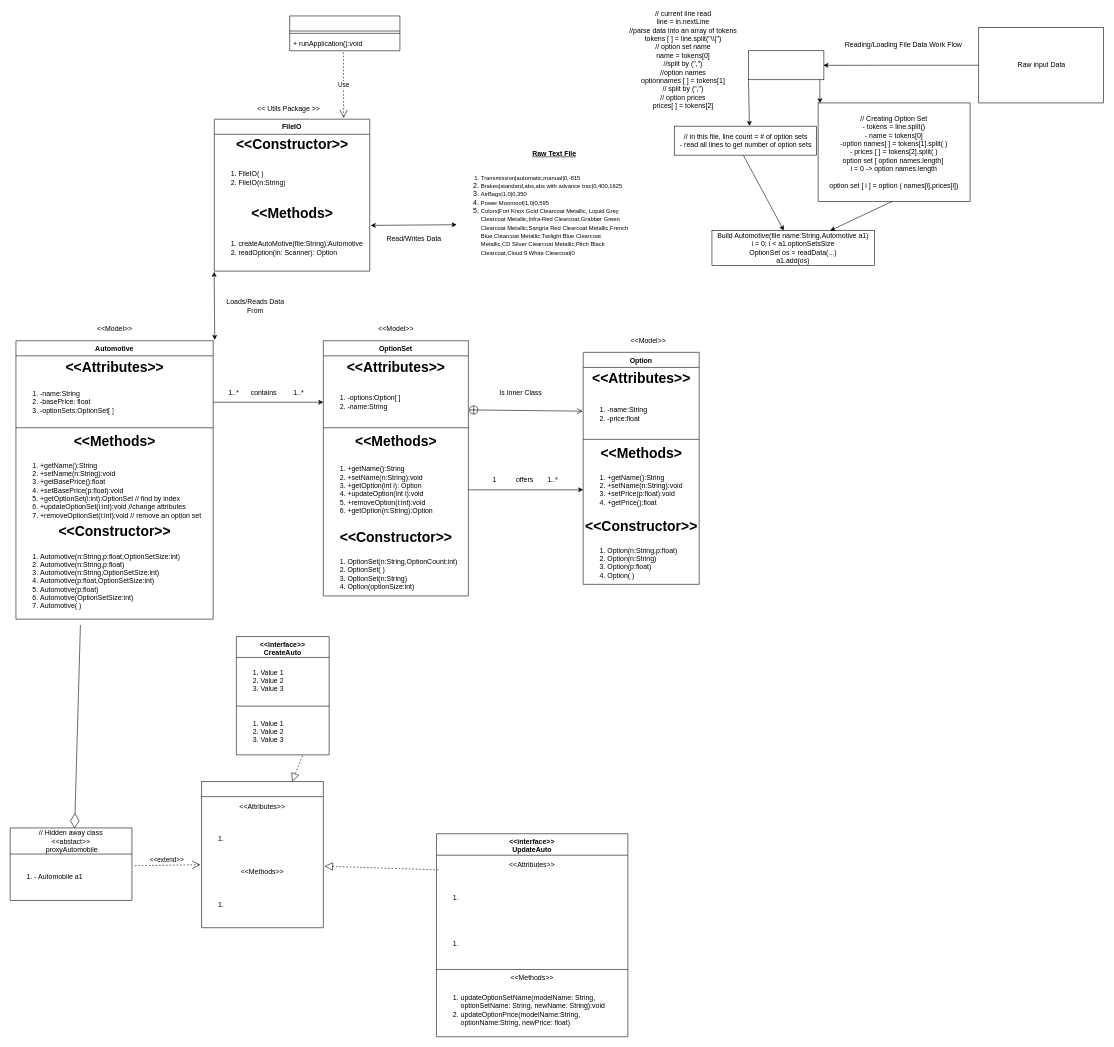
Some shapes in this 1114 by 1047 pixel diagram are drawn without their labels. Each missing label, with the box of its shape:
//provides ecapsulation BuildAuto: (201, 781, 323, 928)
Driver: (289, 15, 400, 51)
fileio: readData(Scanner in): (748, 50, 824, 80)
